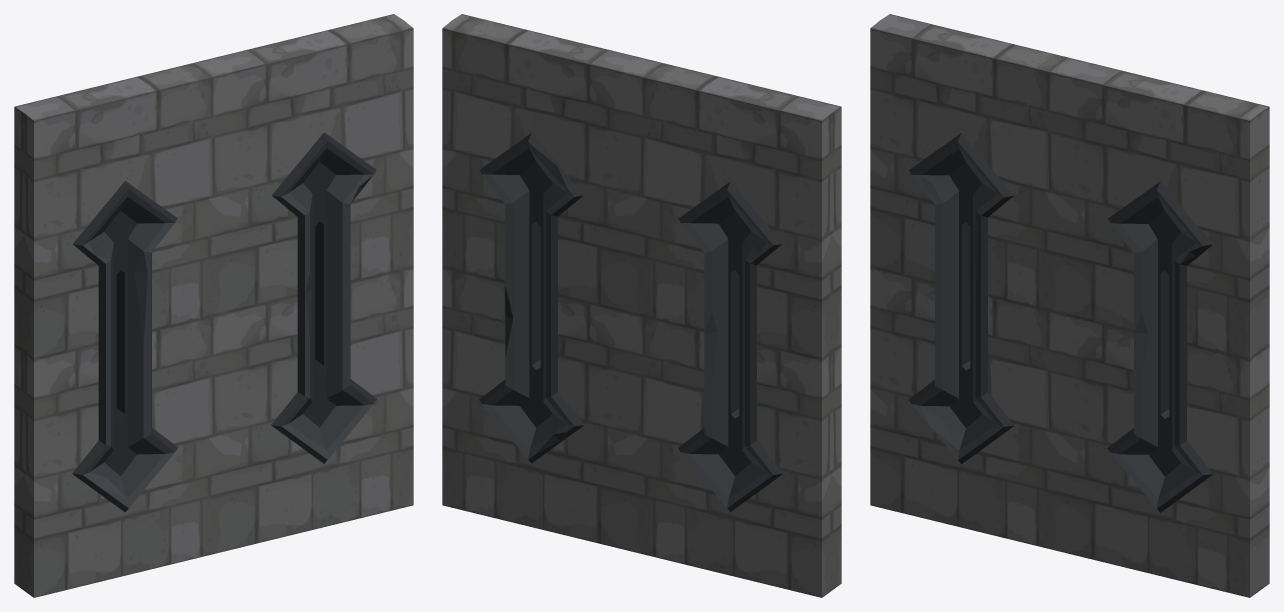
The model's file is wall_l_b.gltf.
3 renders of one model, left to right at view 1: azimuth 30°, elevation 25°; view 2: azimuth 150°, elevation 25°; view 3: azimuth 330°, elevation 25°, orthographic.
Visible parts, largest first — view 1: wall_l_b; view 2: wall_l_b; view 3: wall_l_b.
Part boxes in pixels (x1,y1,x2,y2): wall_l_b: (14,14,413,597); wall_l_b: (442,14,841,597); wall_l_b: (870,14,1269,597).
Size of the model in its own units: 5 by 6.01 by 0.6128.
2 materials, 2 textured.
